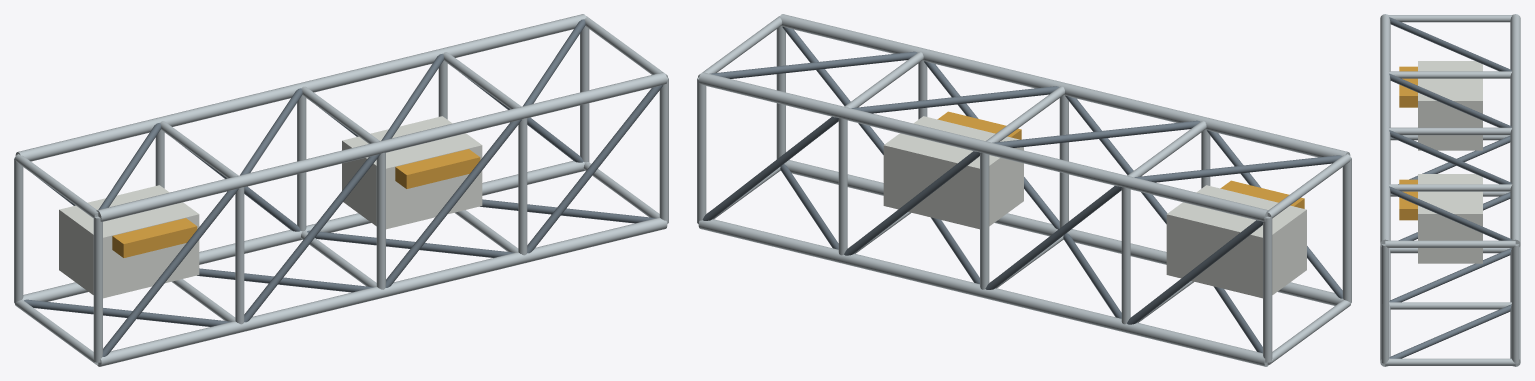
Rendered from iss_truss.s0.glb.
3 renders of one model, left to right at view 1: azimuth 30°, elevation 25°; view 2: azimuth 150°, elevation 25°; view 3: azimuth 270°, elevation 25°, orthographic. The views are drawn at different scales.
Visible parts, largest first — view 1: iss_truss.s0.mesh_Satin_aluminum, iss_truss.s0.mesh_Machined_steel, iss_truss.s0.mesh_Pale_thermal_blanket, iss_truss.s0.mesh_Gold_thermal_insulation; view 2: iss_truss.s0.mesh_Satin_aluminum, iss_truss.s0.mesh_Pale_thermal_blanket, iss_truss.s0.mesh_Machined_steel, iss_truss.s0.mesh_Gold_thermal_insulation; view 3: iss_truss.s0.mesh_Satin_aluminum, iss_truss.s0.mesh_Pale_thermal_blanket, iss_truss.s0.mesh_Machined_steel, iss_truss.s0.mesh_Gold_thermal_insulation.
Boxes of the visible parts, bbox=[...] form: iss_truss.s0.mesh_Satin_aluminum: bbox=[14, 14, 668, 366]; iss_truss.s0.mesh_Machined_steel: bbox=[24, 19, 663, 356]; iss_truss.s0.mesh_Pale_thermal_blanket: bbox=[59, 116, 482, 298]; iss_truss.s0.mesh_Gold_thermal_insulation: bbox=[112, 149, 480, 257]; iss_truss.s0.mesh_Satin_aluminum: bbox=[697, 14, 1351, 366]; iss_truss.s0.mesh_Pale_thermal_blanket: bbox=[883, 116, 1306, 298]; iss_truss.s0.mesh_Machined_steel: bbox=[702, 26, 1342, 353]; iss_truss.s0.mesh_Gold_thermal_insulation: bbox=[937, 111, 1304, 208]; iss_truss.s0.mesh_Satin_aluminum: bbox=[1380, 14, 1520, 366]; iss_truss.s0.mesh_Pale_thermal_blanket: bbox=[1418, 61, 1482, 263]; iss_truss.s0.mesh_Machined_steel: bbox=[1389, 17, 1511, 358]; iss_truss.s0.mesh_Gold_thermal_insulation: bbox=[1399, 66, 1417, 220].
Size of the model in its own units: 11.56 by 3 by 3.
